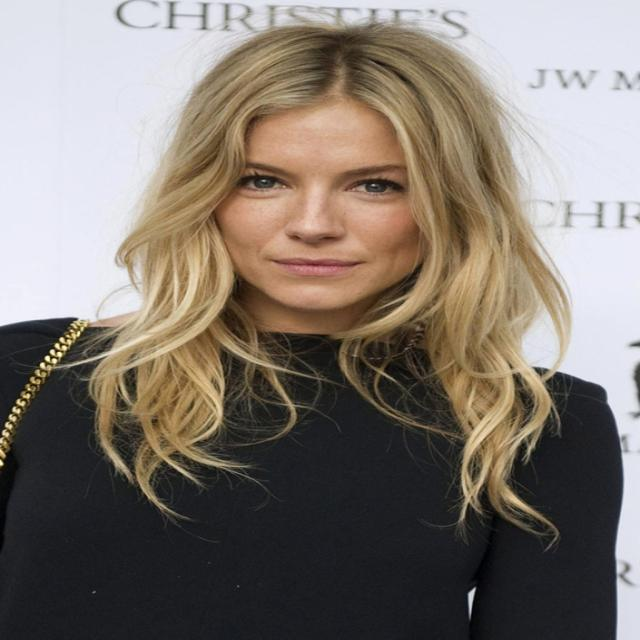Face: (189, 98, 455, 312)
